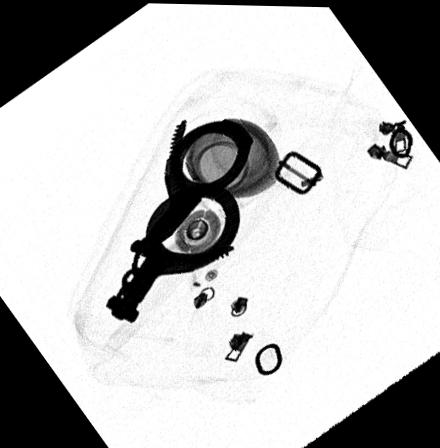HandCuffs: (102, 113, 254, 324)
